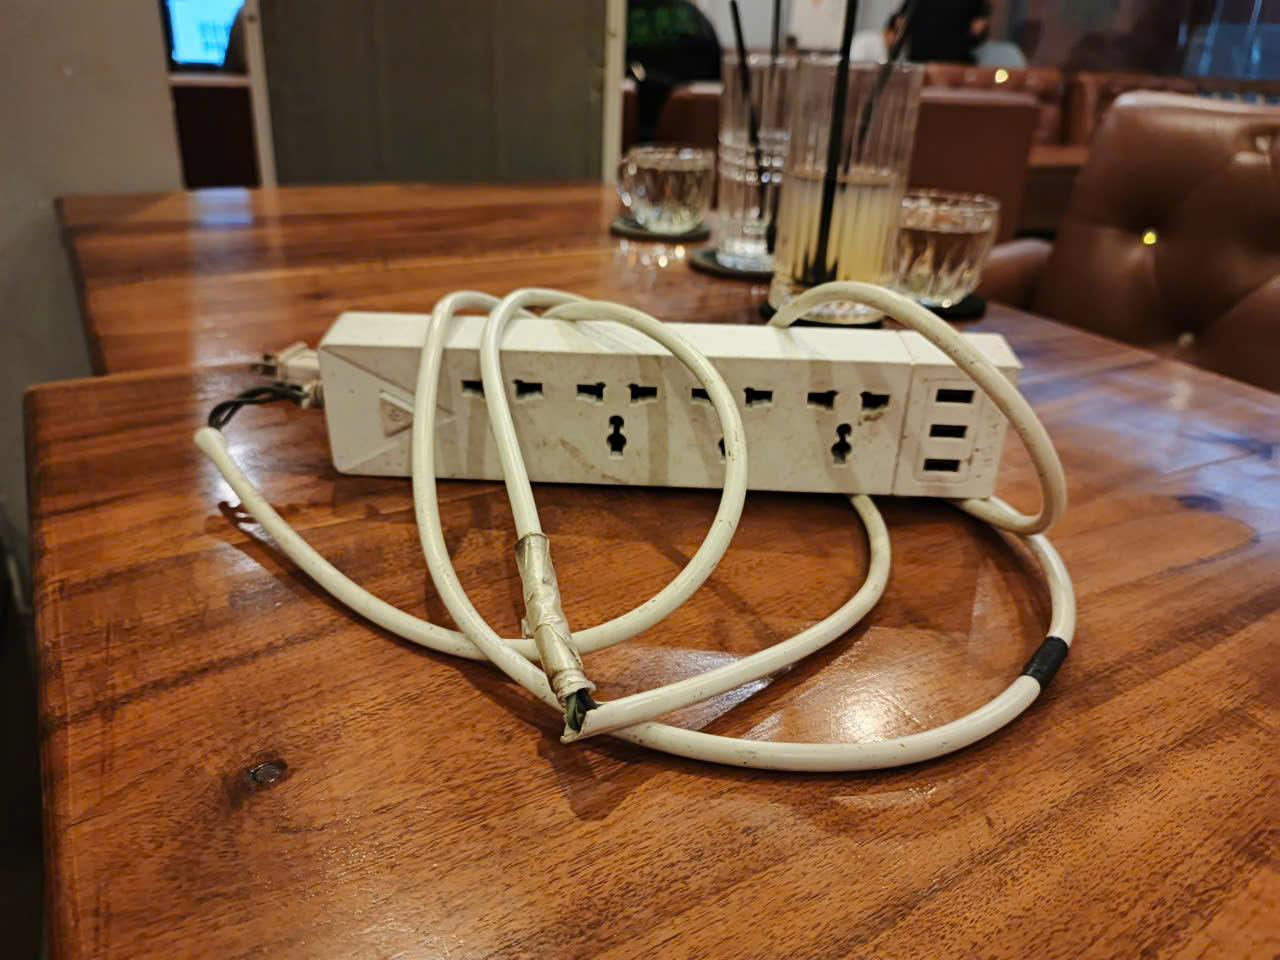Con lai: (192, 272, 1077, 775)
